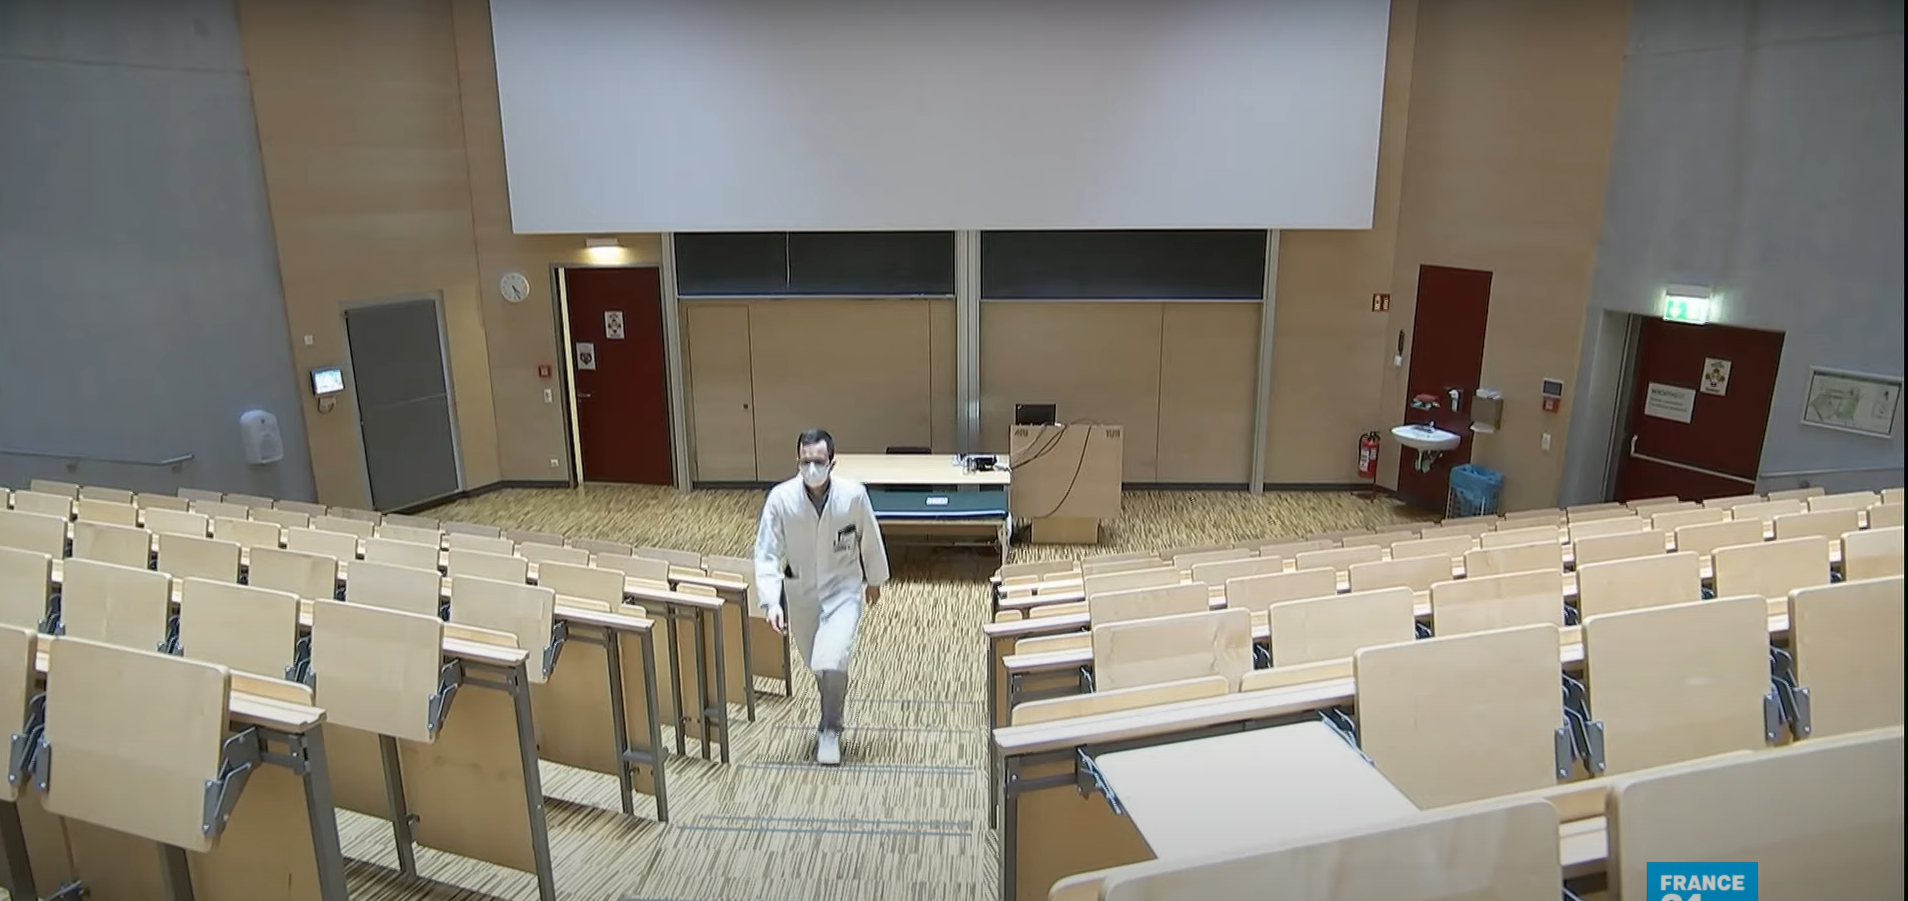with_mask: (799, 443, 828, 488)
